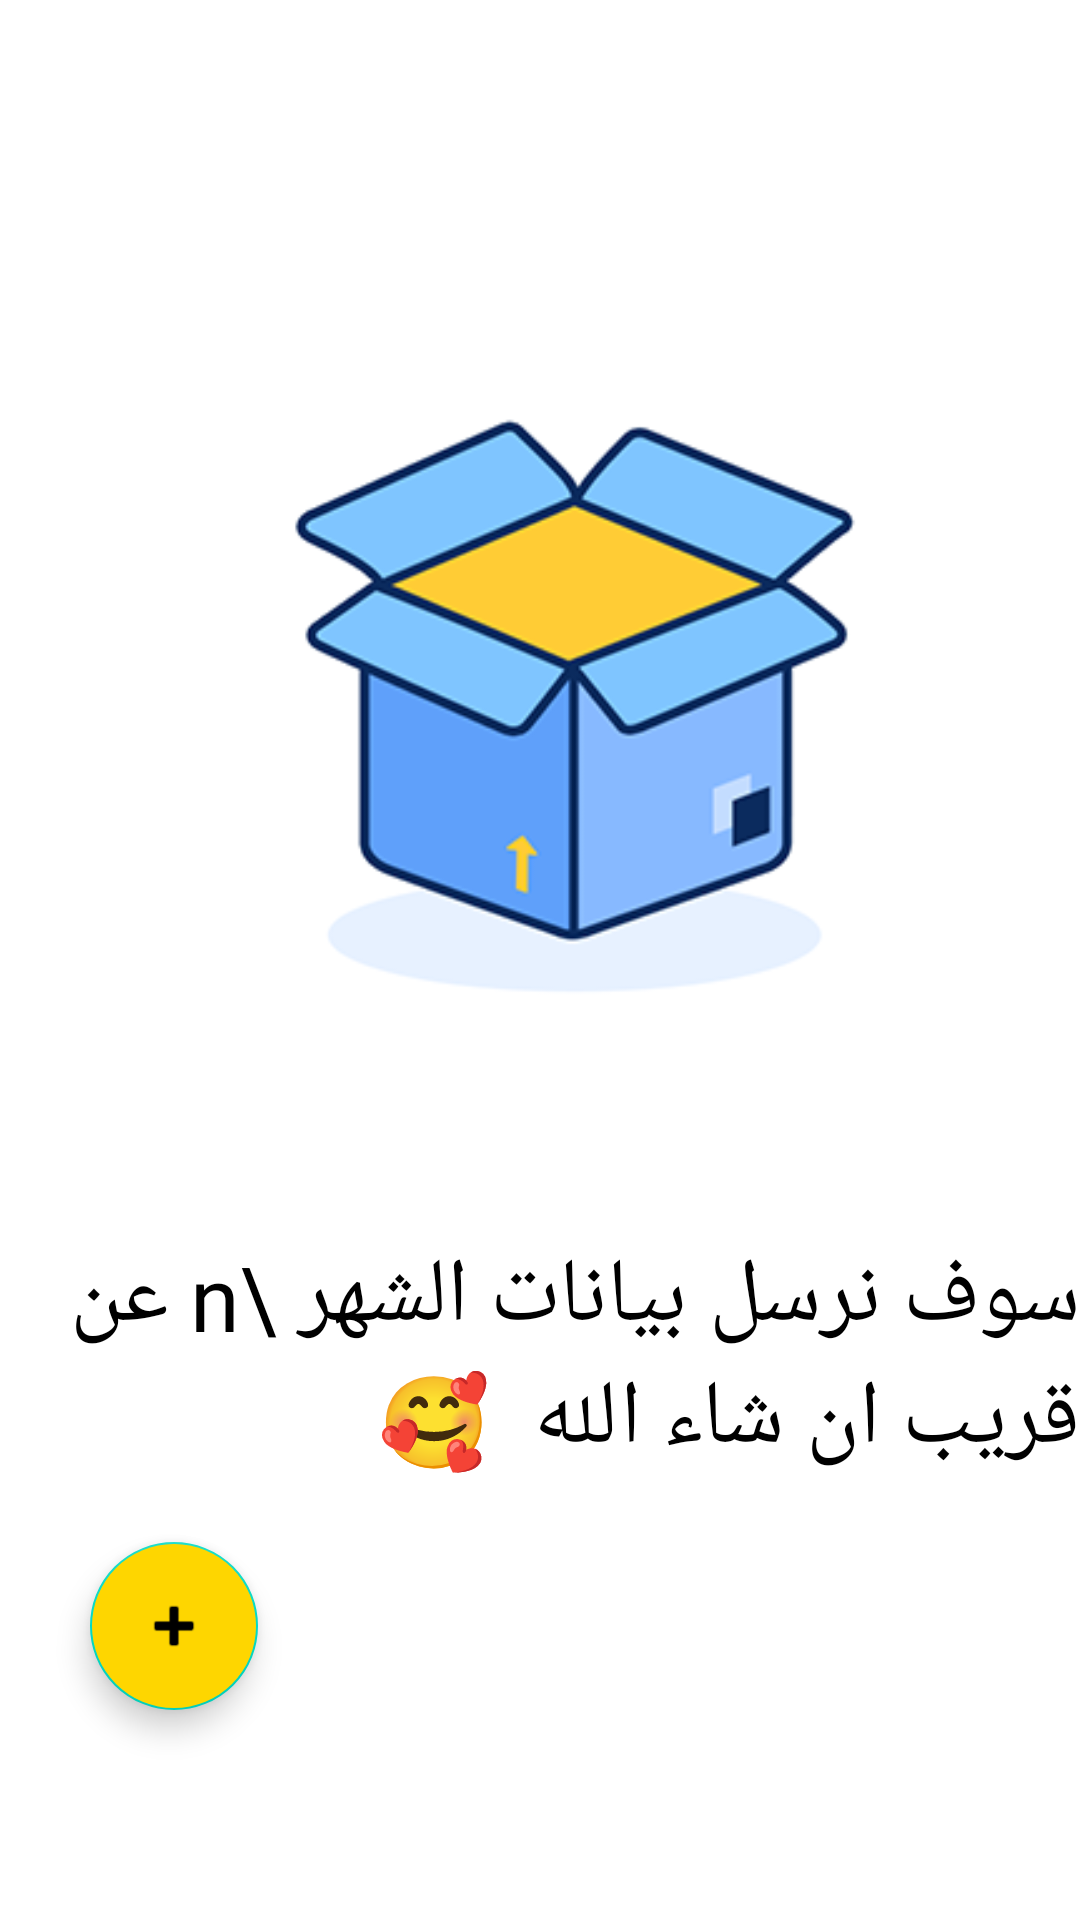

Where icons sit on this 1080px x 1920px app screen, as region(x1, y1, x2, y2):
add: region(90, 1542, 258, 1710)
